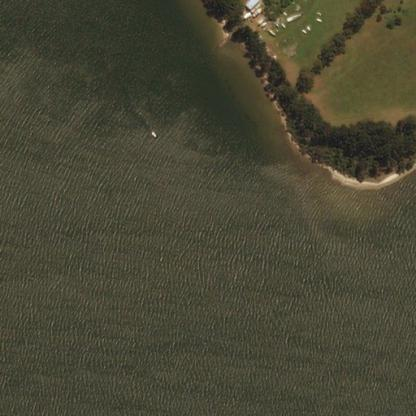ship: (150, 130, 156, 135)
